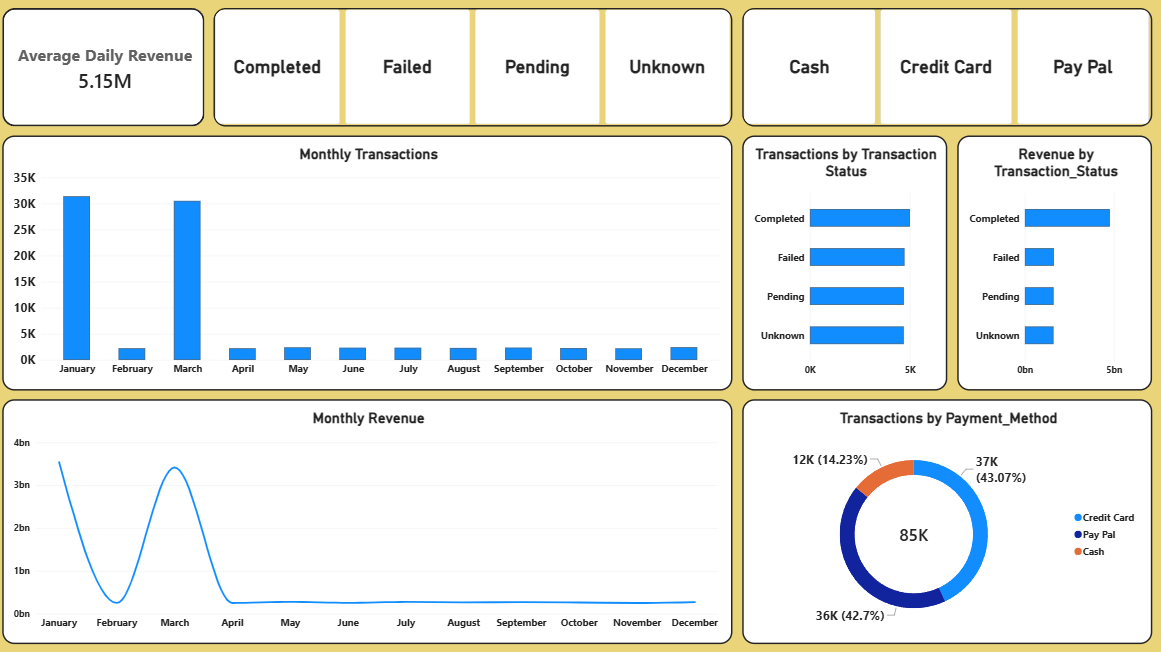

What the dashboard file says about the page in this screenshot:
{"tool":"powerbi","page":{"name":"Page 3","canvas":[1920,1080],"ordinal":2},"visuals":[{"type":"lineChart","title":"Monthly Revenue","fields":{"Category":["cleaned_financial_transaction.Transaction_Date.Variation.Date Hierarchy.Month"],"Y":["cleaned_financial_transaction.Revenue"]},"box":[10.3,660.7,1202.1,403.4],"z":0},{"type":"clusteredColumnChart","title":"Monthly Transactions","fields":{"Category":["cleaned_financial_transaction.Transaction_Date.Variation.Date Hierarchy.Month"],"Y":["cleaned_financial_transaction.Total Transactions"]},"box":[10.3,226.4,1202.1,419.9],"z":1000},{"type":"donutChart","title":"Transactions by Payment_Method","fields":{"Category":["cleaned_financial_transaction.Payment_Method"],"Y":["cleaned_financial_transaction.Total Transactions"]},"box":[1228.8,660.7,675.1,403.4],"z":3000},{"type":"barChart","fields":{"Category":["cleaned_financial_transaction.Transaction_Status"],"Y":["cleaned_financial_transaction.Revenue"]},"box":[1582.9,226.4,321.1,419.9],"z":4000},{"type":"cardVisual","fields":{"Data":["cleaned_financial_transaction.Average Daily Revenue"]},"box":[10.3,16.5,333.4,195.5],"z":6000},{"type":"advancedSlicerVisual","fields":{"Values":["cleaned_financial_transaction.Payment_Method"]},"box":[1228.8,16.5,675.1,195.5],"z":6001},{"type":"advancedSlicerVisual","fields":{"Values":["cleaned_financial_transaction.Transaction_Status"]},"box":[358.1,16.5,854.2,195.5],"z":6002},{"type":"barChart","title":"Transactions by Transaction Status","fields":{"Category":["cleaned_financial_transaction.Transaction_Status"],"Y":["cleaned_financial_transaction.unique customers"]},"box":[1228.8,226.4,337.6,419.9],"z":6003}]}

Visuals, with their boxes in screenshot pixels (x1, y1, x2, y2), scaled from the page's 1920x1080 canvas onto the 1161x652 screenshot:
"Monthly Revenue" lineChart: 6:399:733:642
"Monthly Transactions" clusteredColumnChart: 6:137:733:390
"Transactions by Payment_Method" donutChart: 743:399:1151:642
barChart - cleaned_financial_transaction.Transaction_Status x cleaned_financial_transaction.Revenue: 957:137:1151:390
cardVisual - cleaned_financial_transaction.Average Daily Revenue: 6:10:208:128
advancedSlicerVisual - cleaned_financial_transaction.Payment_Method: 743:10:1151:128
advancedSlicerVisual - cleaned_financial_transaction.Transaction_Status: 217:10:733:128
"Transactions by Transaction Status" barChart: 743:137:947:390
